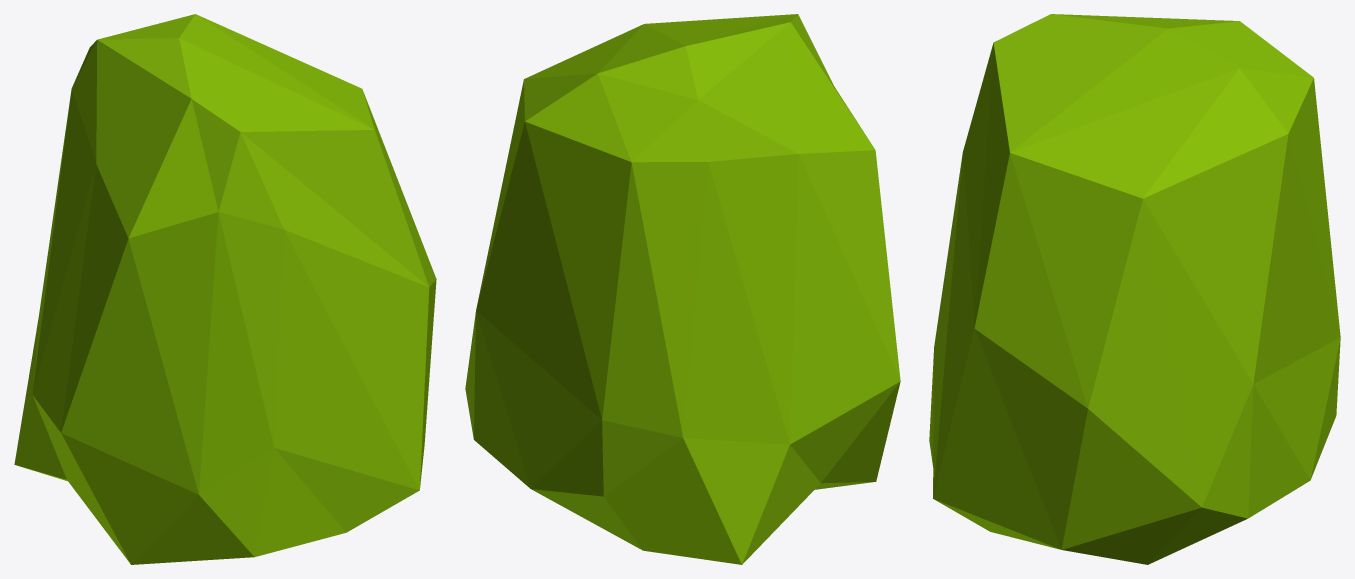
The model's file is Bush_Tall.fbx.
The picture shows the model from 3 angles, left to right: view 1: azimuth 30°, elevation 25°; view 2: azimuth 150°, elevation 25°; view 3: azimuth 270°, elevation 25°; orthographic projection. The views are drawn at different scales.
Parts seen in each view (by area): view 1: Bush_Tall; view 2: Bush_Tall; view 3: Bush_Tall.
Part boxes in pixels (left/top/right/bottom): Bush_Tall: left=14, top=14, right=436, bottom=564; Bush_Tall: left=465, top=14, right=900, bottom=564; Bush_Tall: left=929, top=14, right=1340, bottom=564.
Bounding box in the file's own units: 186 × 215 × 170.
